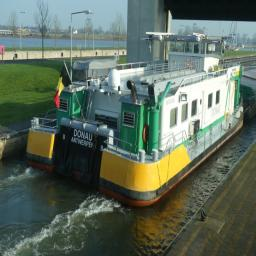tugboat: (27, 30, 246, 211)
